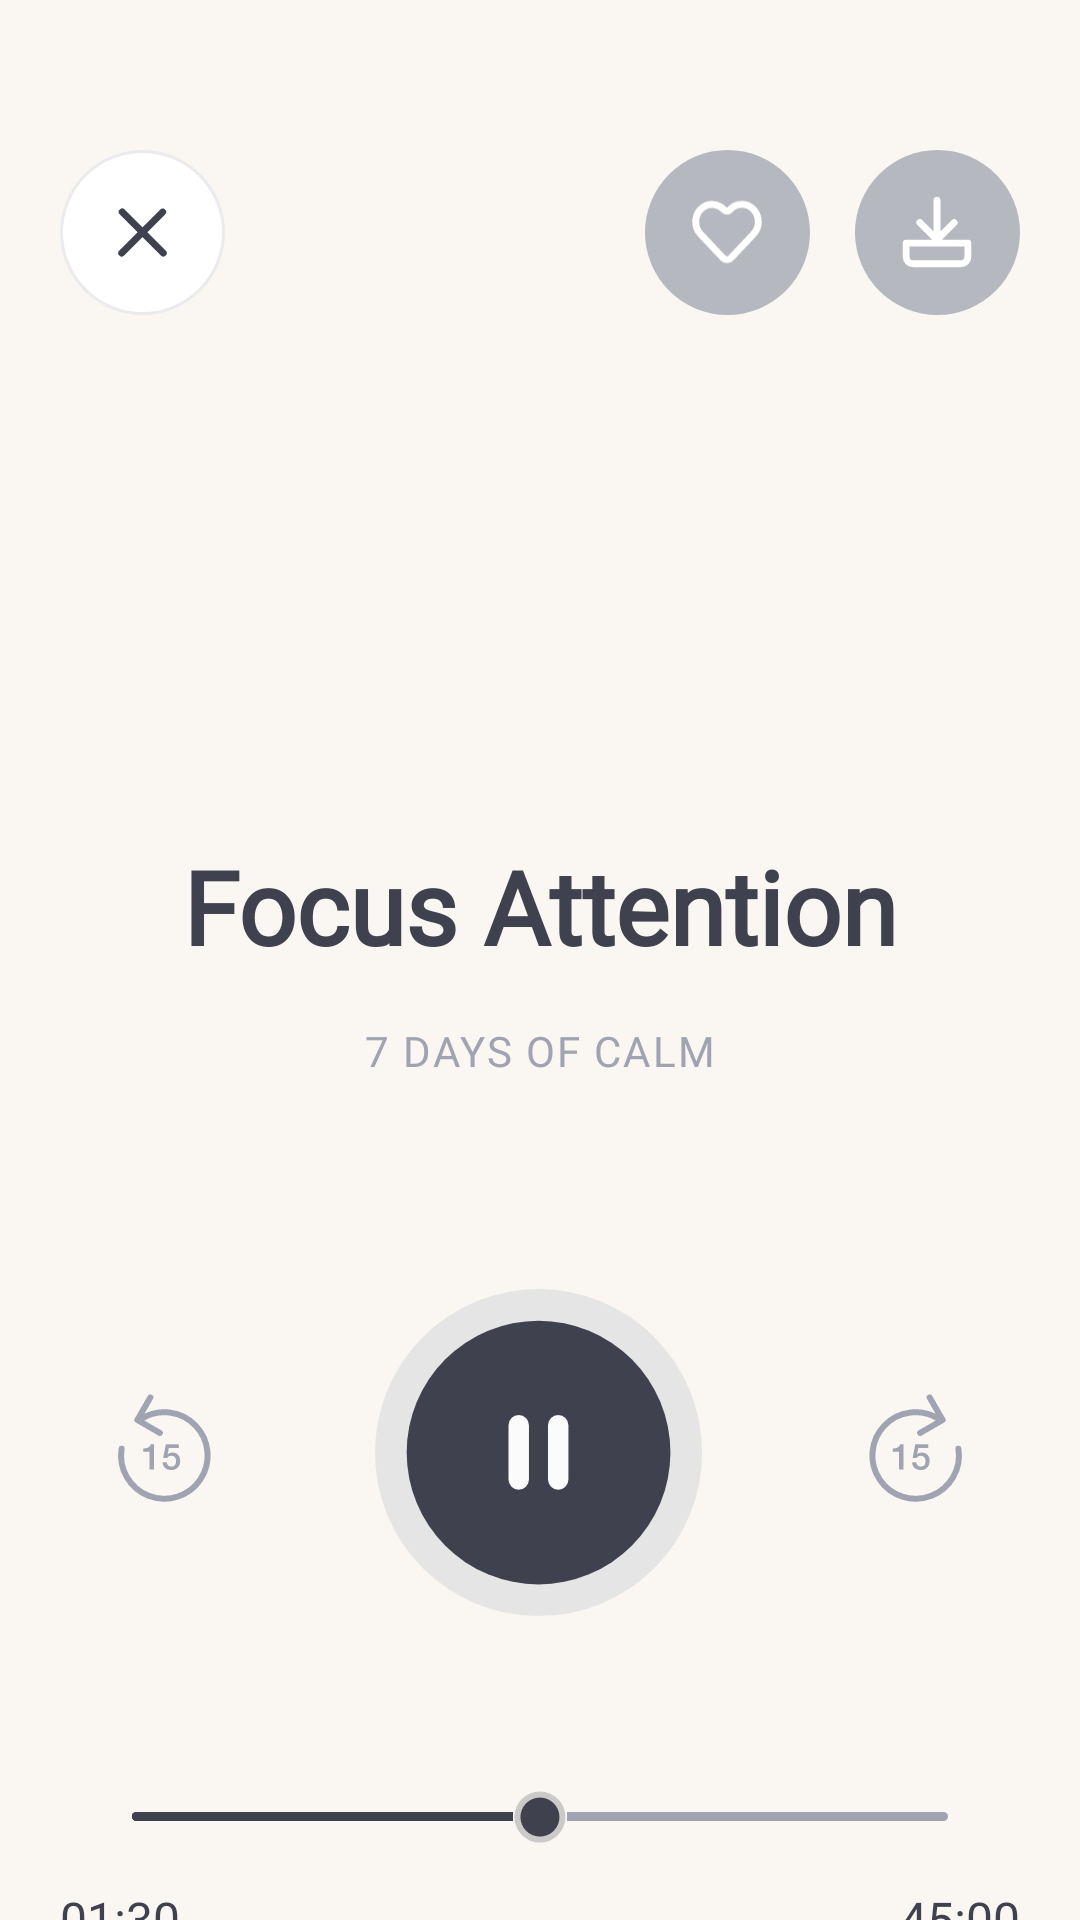

Named icons in this screenshot (1080*1920) and their centers, [x,y]:
close: [142,232]
download: [937,232]
heart: [727,232]
pause: [538,1452]
rewind fifteen: [164,1448]
skip fifteen: [915,1448]
